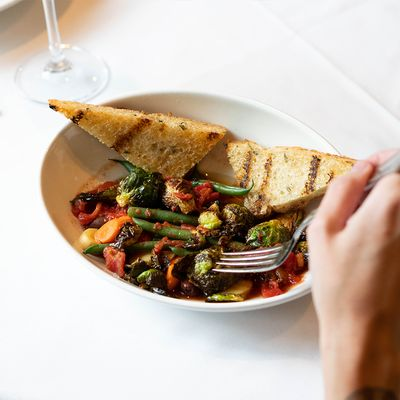sushi: (38, 59, 362, 313)
